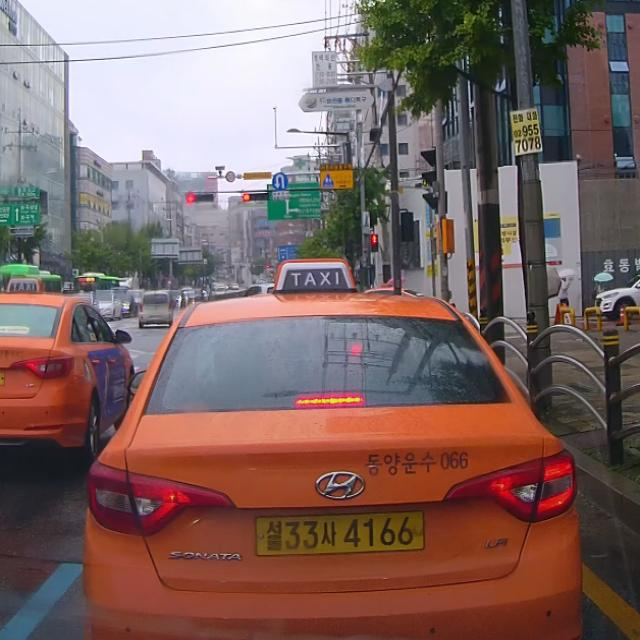Red Light: (186, 193, 195, 203), (243, 193, 250, 201)
